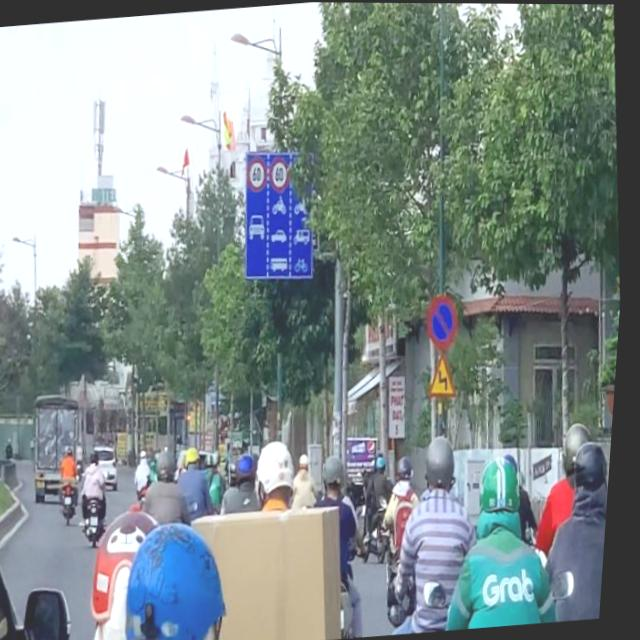Cam do xe: (427, 289, 466, 350)
Nhieu cho ngoat lien tiep ben trai: (427, 346, 465, 402)
Toc do toi da cho phep: (246, 154, 272, 196)
